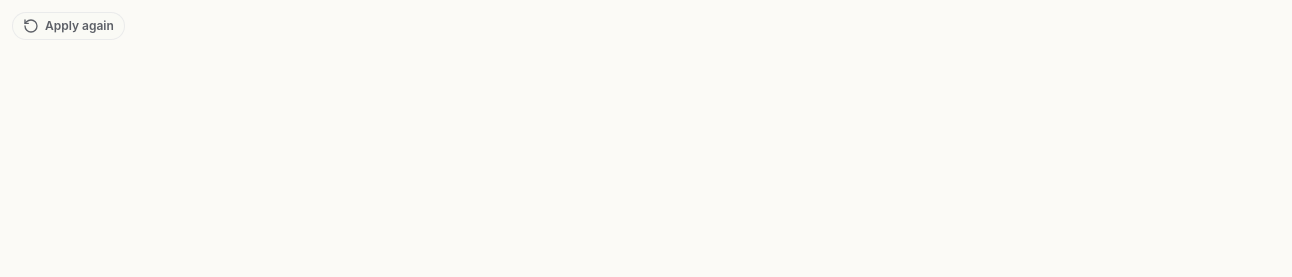
Test: ApplyToRoleButton › re-opens a declined application with an update instead of inserting a duplicate
Click the button "Apply again": (68, 26) [12, 12, 125, 40]
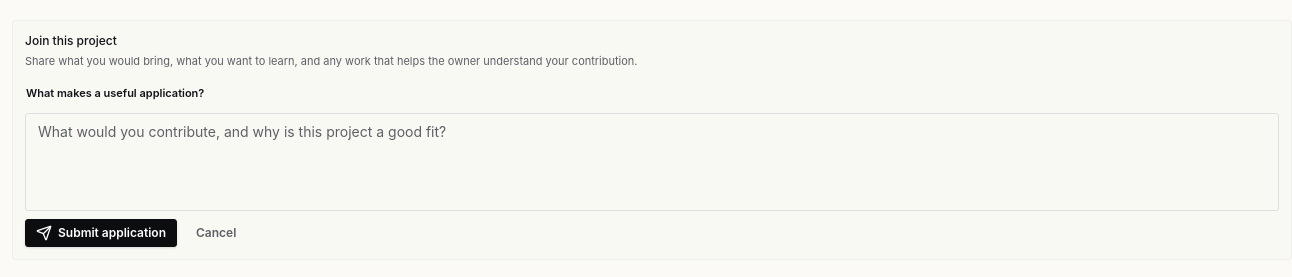
In the text box with placeholder "What would you contribute": (652, 162) [25, 113, 1279, 211], type "I have the skills for this"
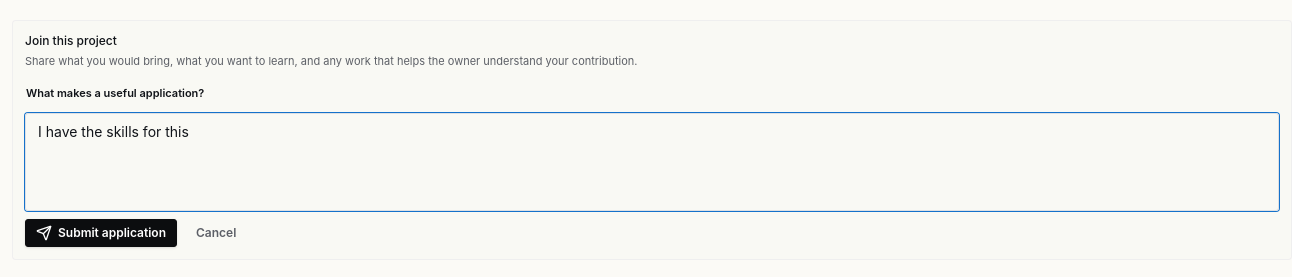
Click the button "Submit application": (101, 233) [25, 219, 177, 247]
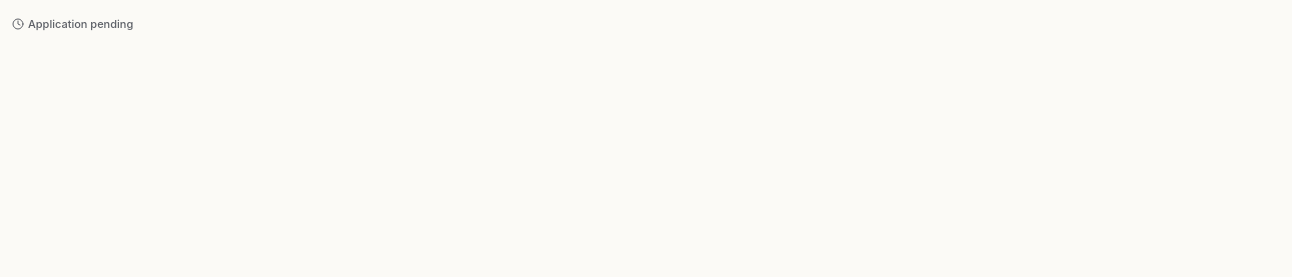
Result: the text "Application pending" is shown at [12, 16, 133, 32]
